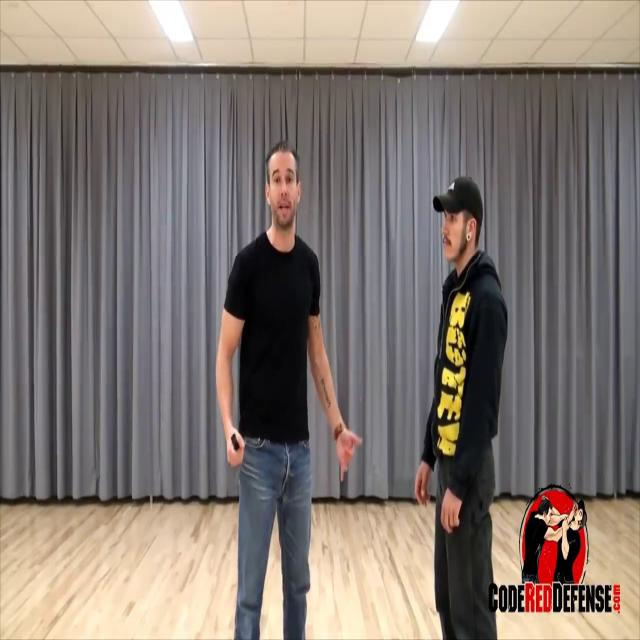Knife_Handle: (224, 426, 245, 466)
